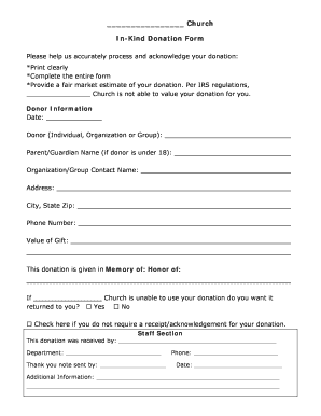checkbox: (111, 303, 120, 310), (26, 320, 33, 328), (85, 304, 93, 311)
textline: (68, 231, 294, 248), (54, 179, 294, 194), (25, 274, 295, 286), (75, 197, 294, 211), (77, 214, 294, 228), (23, 247, 295, 258), (25, 382, 282, 392), (142, 162, 294, 176), (95, 372, 282, 383), (162, 128, 294, 141), (117, 337, 278, 346), (174, 147, 294, 158), (105, 16, 186, 30), (65, 347, 166, 358), (193, 346, 280, 358), (191, 360, 282, 371), (32, 292, 103, 304), (25, 88, 93, 99), (45, 111, 106, 123), (98, 361, 169, 371)
